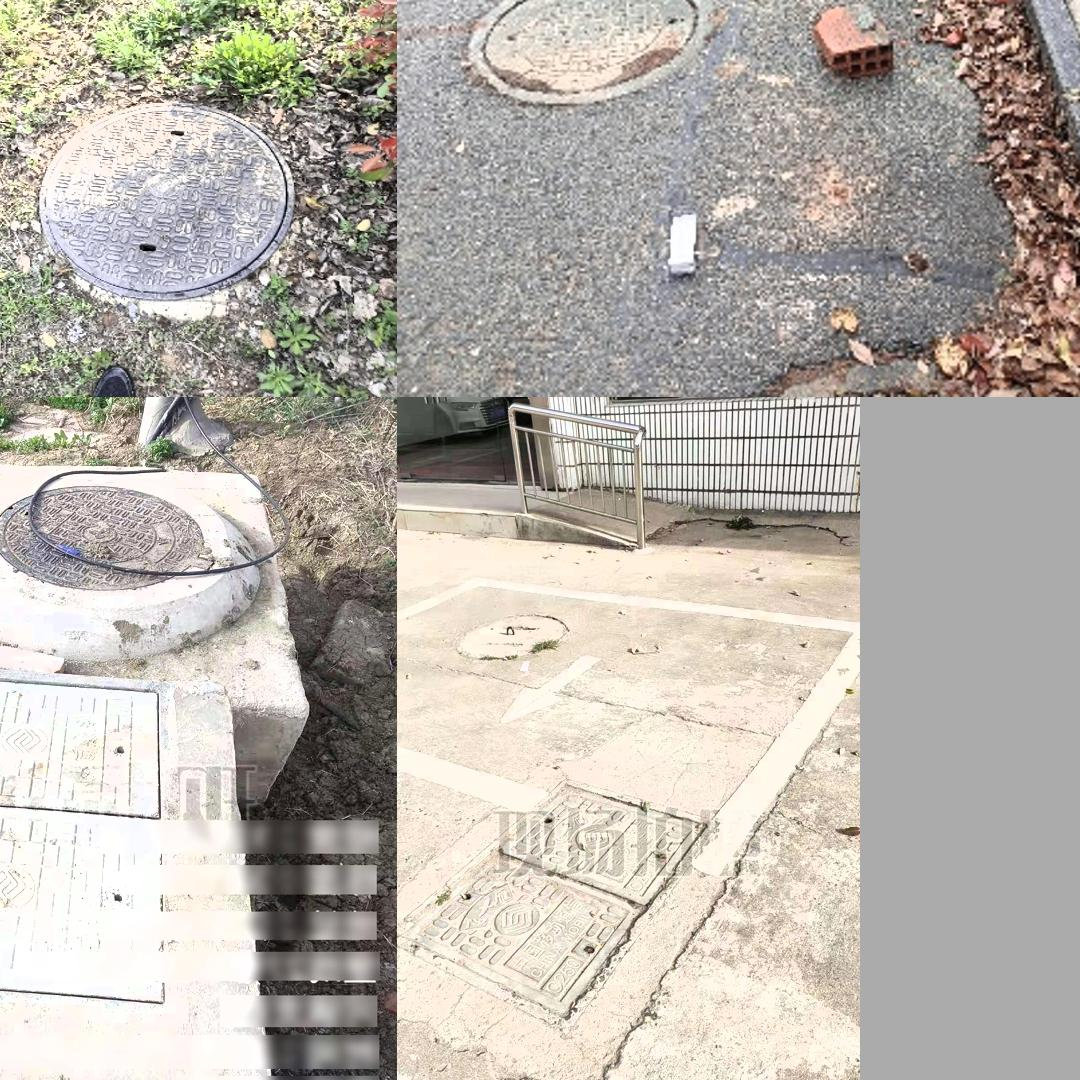good: (397, 776, 712, 1029), (0, 662, 175, 1014), (36, 103, 292, 299), (468, 0, 712, 101), (0, 485, 217, 591)
